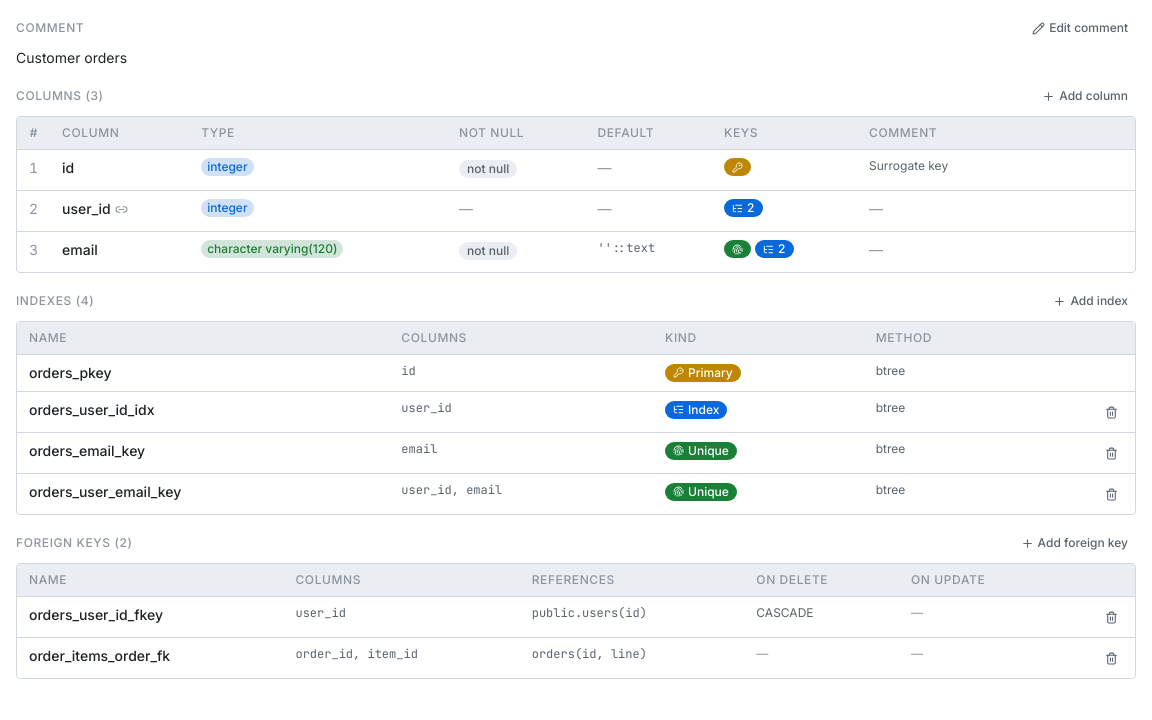
TableStructurePanel — derived per-column indicators › clips a comment in its column and opens the full text in a modal
Click the button with aria-label "Show comment on id".
click(937, 166)  # box [869,158,1005,174]
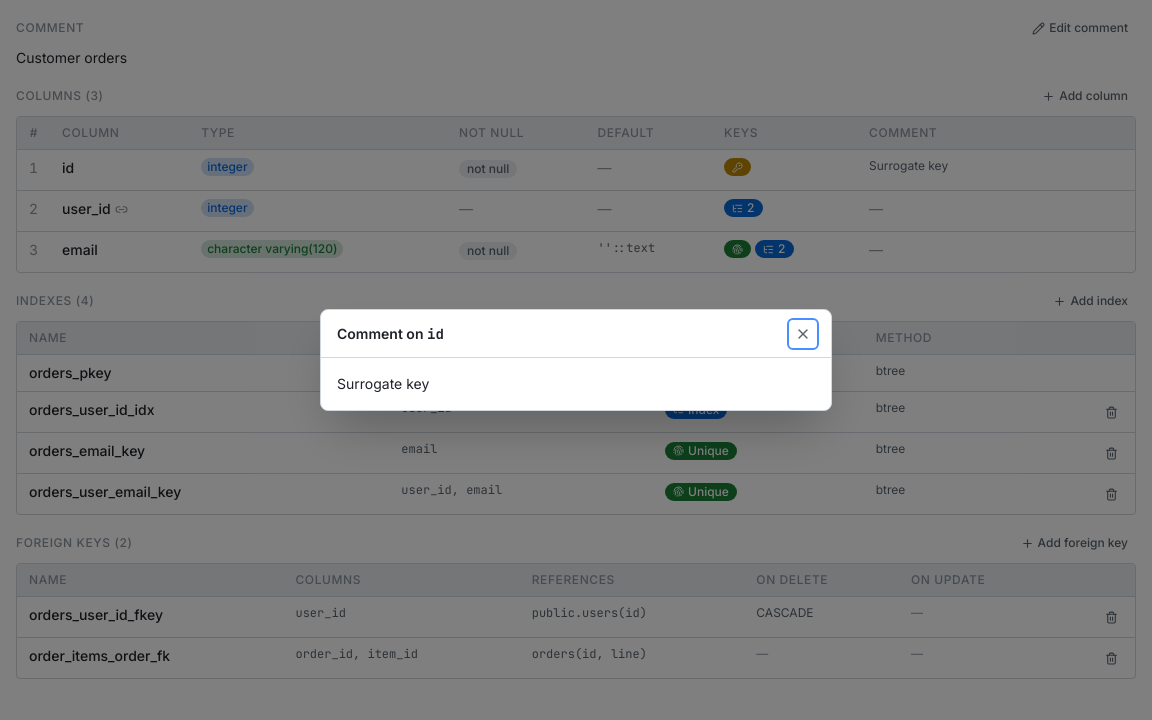
Check: the text "Surrogate key" is shown, box [337,375,429,392]
Click the button named "Close".
click(803, 334)  # box [791,322,815,346]
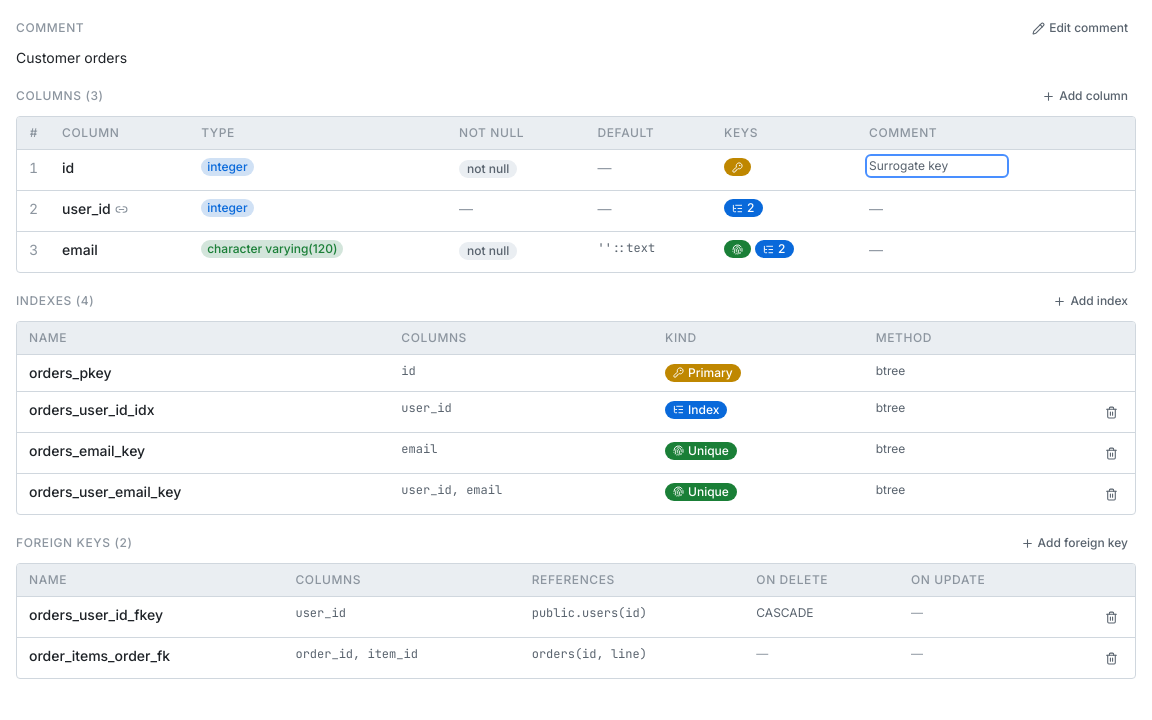
Check: the dialog is gone
